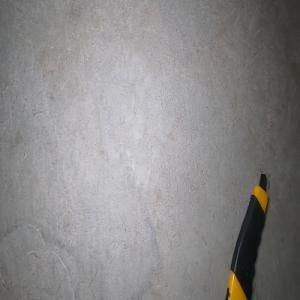Cutter: (224, 171, 268, 300)
